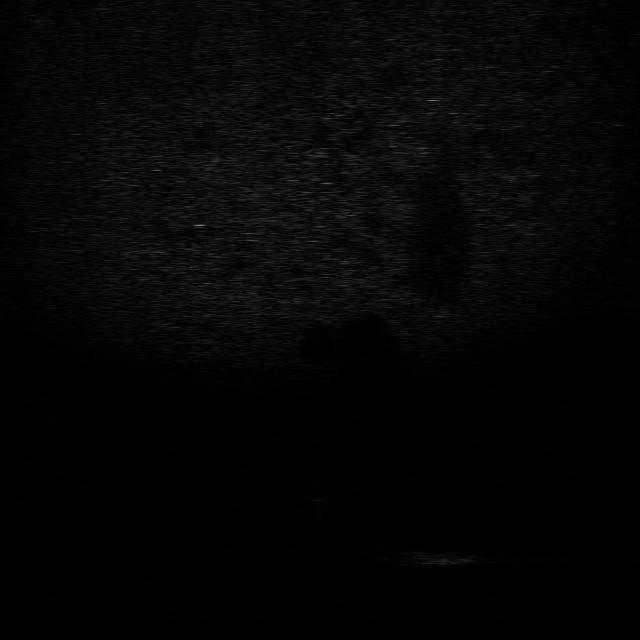ball: (298, 482, 332, 503)
metal bucket: (396, 548, 484, 566)
tyre: (342, 518, 398, 565)
